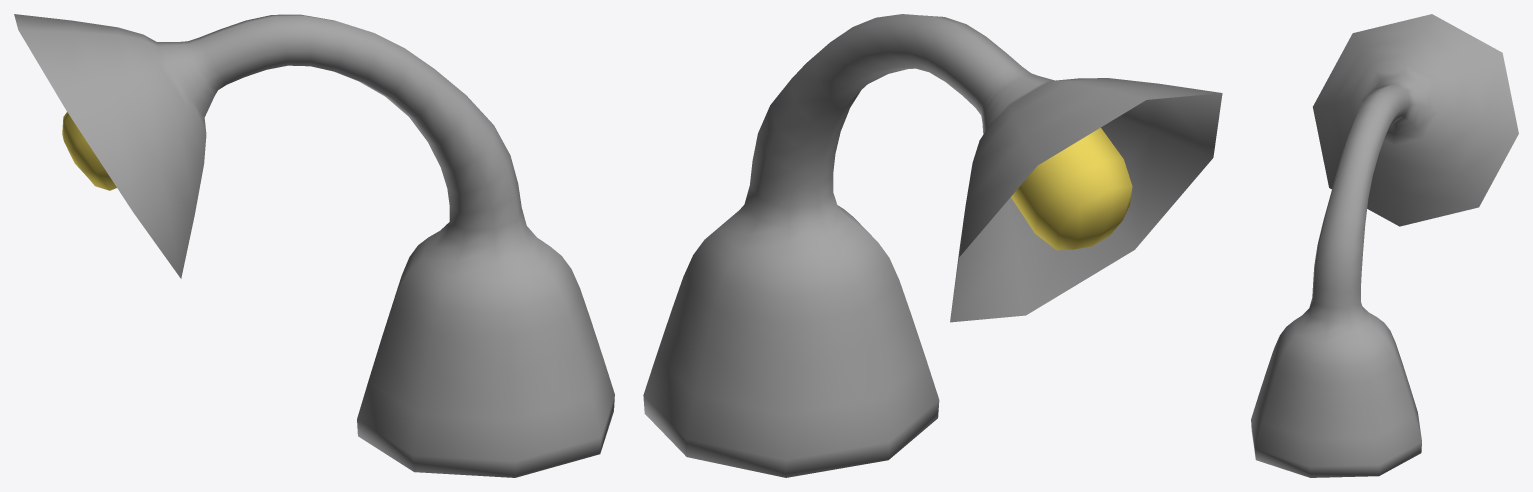
Rendered from lamp.fbx.
3 views of the same model, side by side, from view 1: azimuth 30°, elevation 25°; view 2: azimuth 150°, elevation 25°; view 3: azimuth 270°, elevation 25° (orthographic). The views are drawn at different scales.
Parts seen in each view (by area): view 1: Lamp; view 2: Lamp; view 3: Lamp.
Part boxes in pixels (x1,y1,x2,y2): Lamp: (14,14,614,477); Lamp: (643,14,1222,477); Lamp: (1251,14,1518,477).
Size of the model in its own units: 1.5 by 1.23 by 0.9963.
